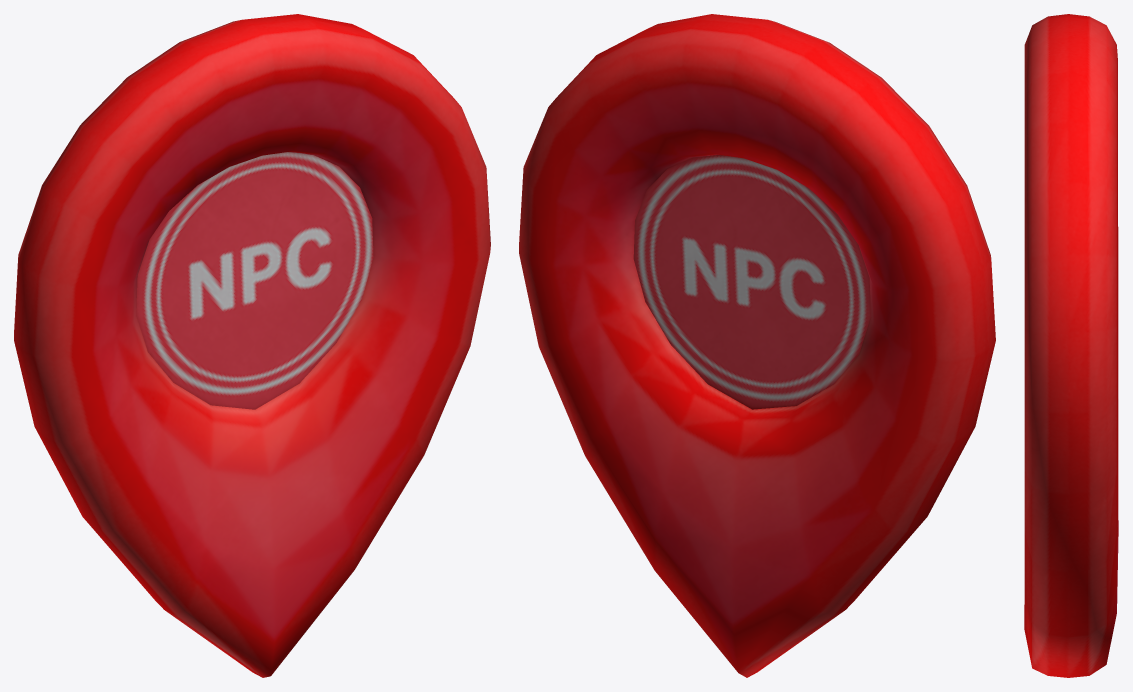
Rendered from NpcDestination.glb.
3 views of the same model, side by side, from view 1: azimuth 30°, elevation 25°; view 2: azimuth 150°, elevation 25°; view 3: azimuth 270°, elevation 25° (orthographic).
Visible parts, largest first — view 1: npc_destination_indicator; view 2: npc_destination_indicator; view 3: npc_destination_indicator.
Part boxes in pixels (x1,y1,x2,y2): npc_destination_indicator: (14, 14, 490, 677); npc_destination_indicator: (519, 14, 995, 677); npc_destination_indicator: (1024, 14, 1118, 677).
Bounding box in the file's own units: 0.9777 × 1.31 × 0.1741.
1 material, 1 textured.
